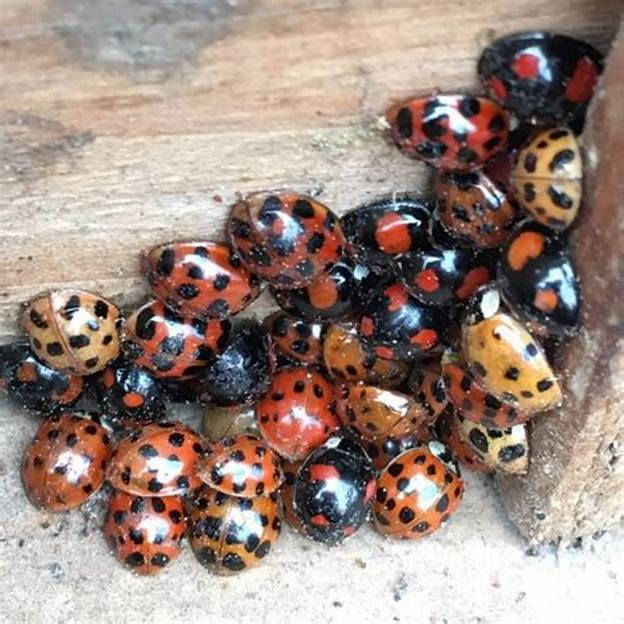red: (460, 285, 563, 412), (220, 191, 348, 288), (385, 93, 516, 170), (139, 238, 257, 321), (101, 418, 217, 499), (370, 446, 466, 542), (21, 288, 123, 375), (21, 412, 111, 510), (105, 485, 187, 577), (510, 125, 580, 232)
two_spots_mutant: (481, 29, 602, 124), (289, 432, 382, 551), (363, 285, 443, 359)
